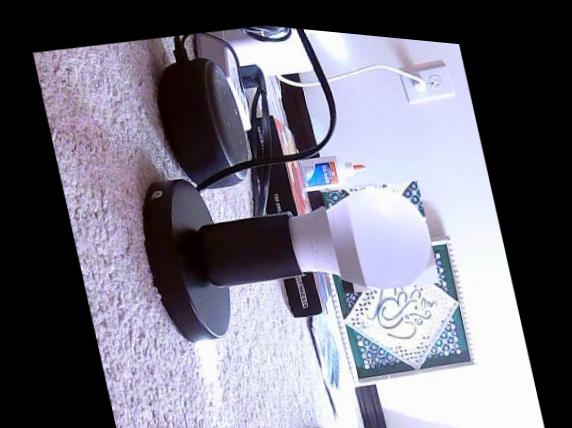Fan: (318, 160, 438, 292)
